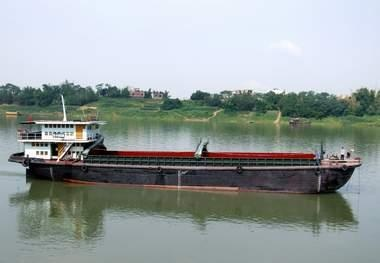Cargoship: (7, 94, 366, 196)
